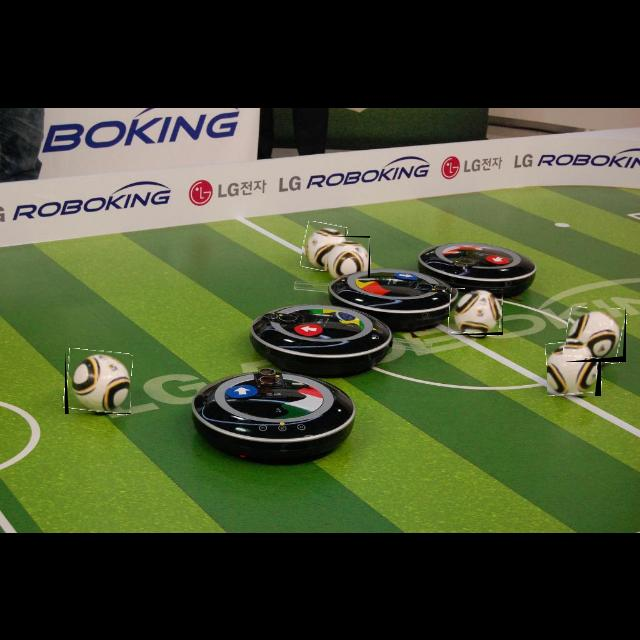Football: (65, 350, 131, 414), (566, 308, 626, 362), (547, 340, 601, 396), (449, 289, 503, 335), (302, 222, 346, 272), (328, 236, 370, 278)
